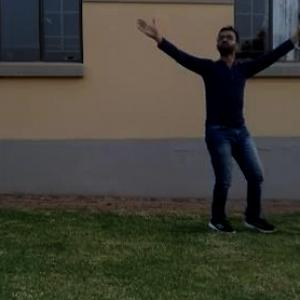takeoff: (141, 25, 299, 229)
